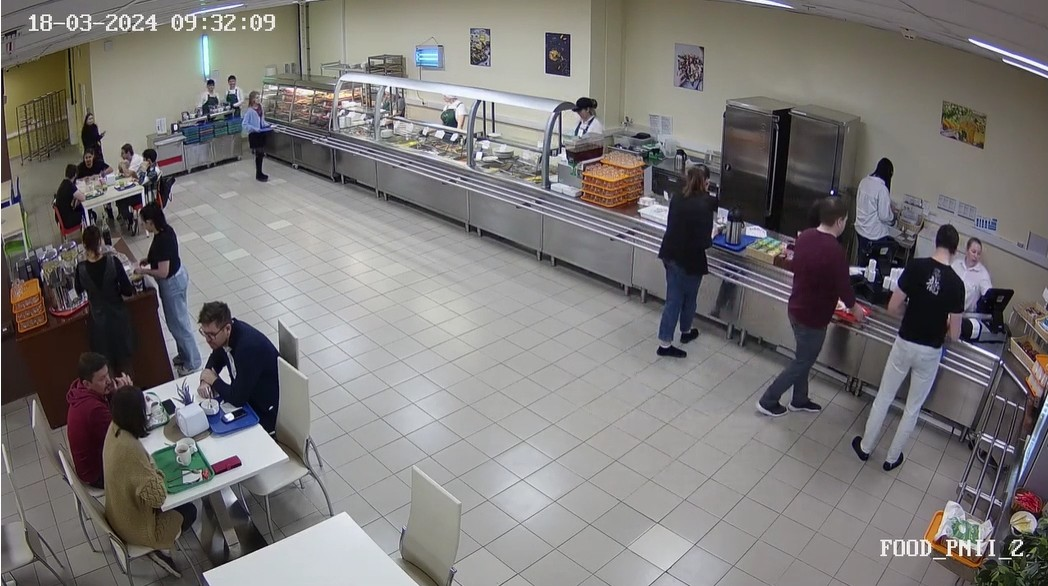Na_Kasse: (763, 208, 998, 470), (756, 191, 864, 427)
Ne_v_Ocheredi: (118, 199, 251, 379), (54, 223, 191, 383), (81, 107, 109, 152)
Personal: (854, 142, 900, 256), (963, 228, 994, 318), (567, 91, 606, 148), (437, 79, 470, 136), (199, 72, 221, 119), (221, 64, 242, 109)
Vybiraet: (645, 156, 723, 368), (242, 87, 272, 180)
Za_Stolom: (191, 301, 296, 442), (98, 385, 175, 549), (56, 346, 117, 502), (54, 163, 86, 234), (136, 147, 169, 188), (117, 137, 145, 184), (76, 148, 109, 182)
